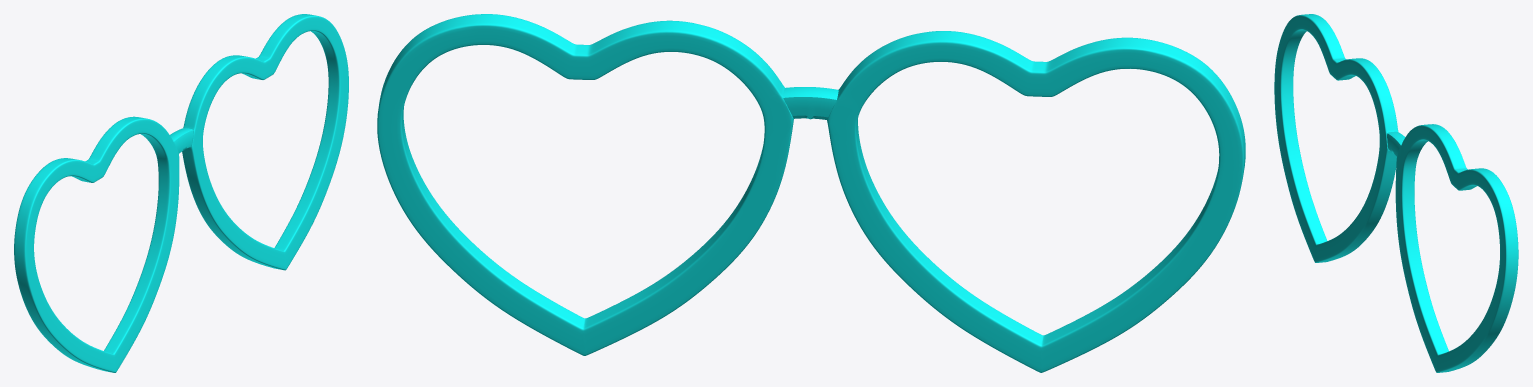
The picture shows the model from 3 angles, left to right: view 1: azimuth 30°, elevation 25°; view 2: azimuth 150°, elevation 25°; view 3: azimuth 270°, elevation 25°; orthographic projection. The views are drawn at different scales.
Parts seen in each view (by area): view 1: 387; view 2: 387; view 3: 387.
Boxes of the visible parts, x1=… form: 387: x1=14, y1=14, x2=348, y2=372; 387: x1=377, y1=14, x2=1245, y2=372; 387: x1=1274, y1=14, x2=1518, y2=372.
Bounding box in the file's own units: 78.01 × 38.15 × 37.45.
